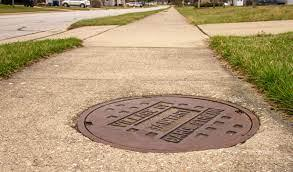closed manhole-not overflowing-: (74, 93, 261, 154)
